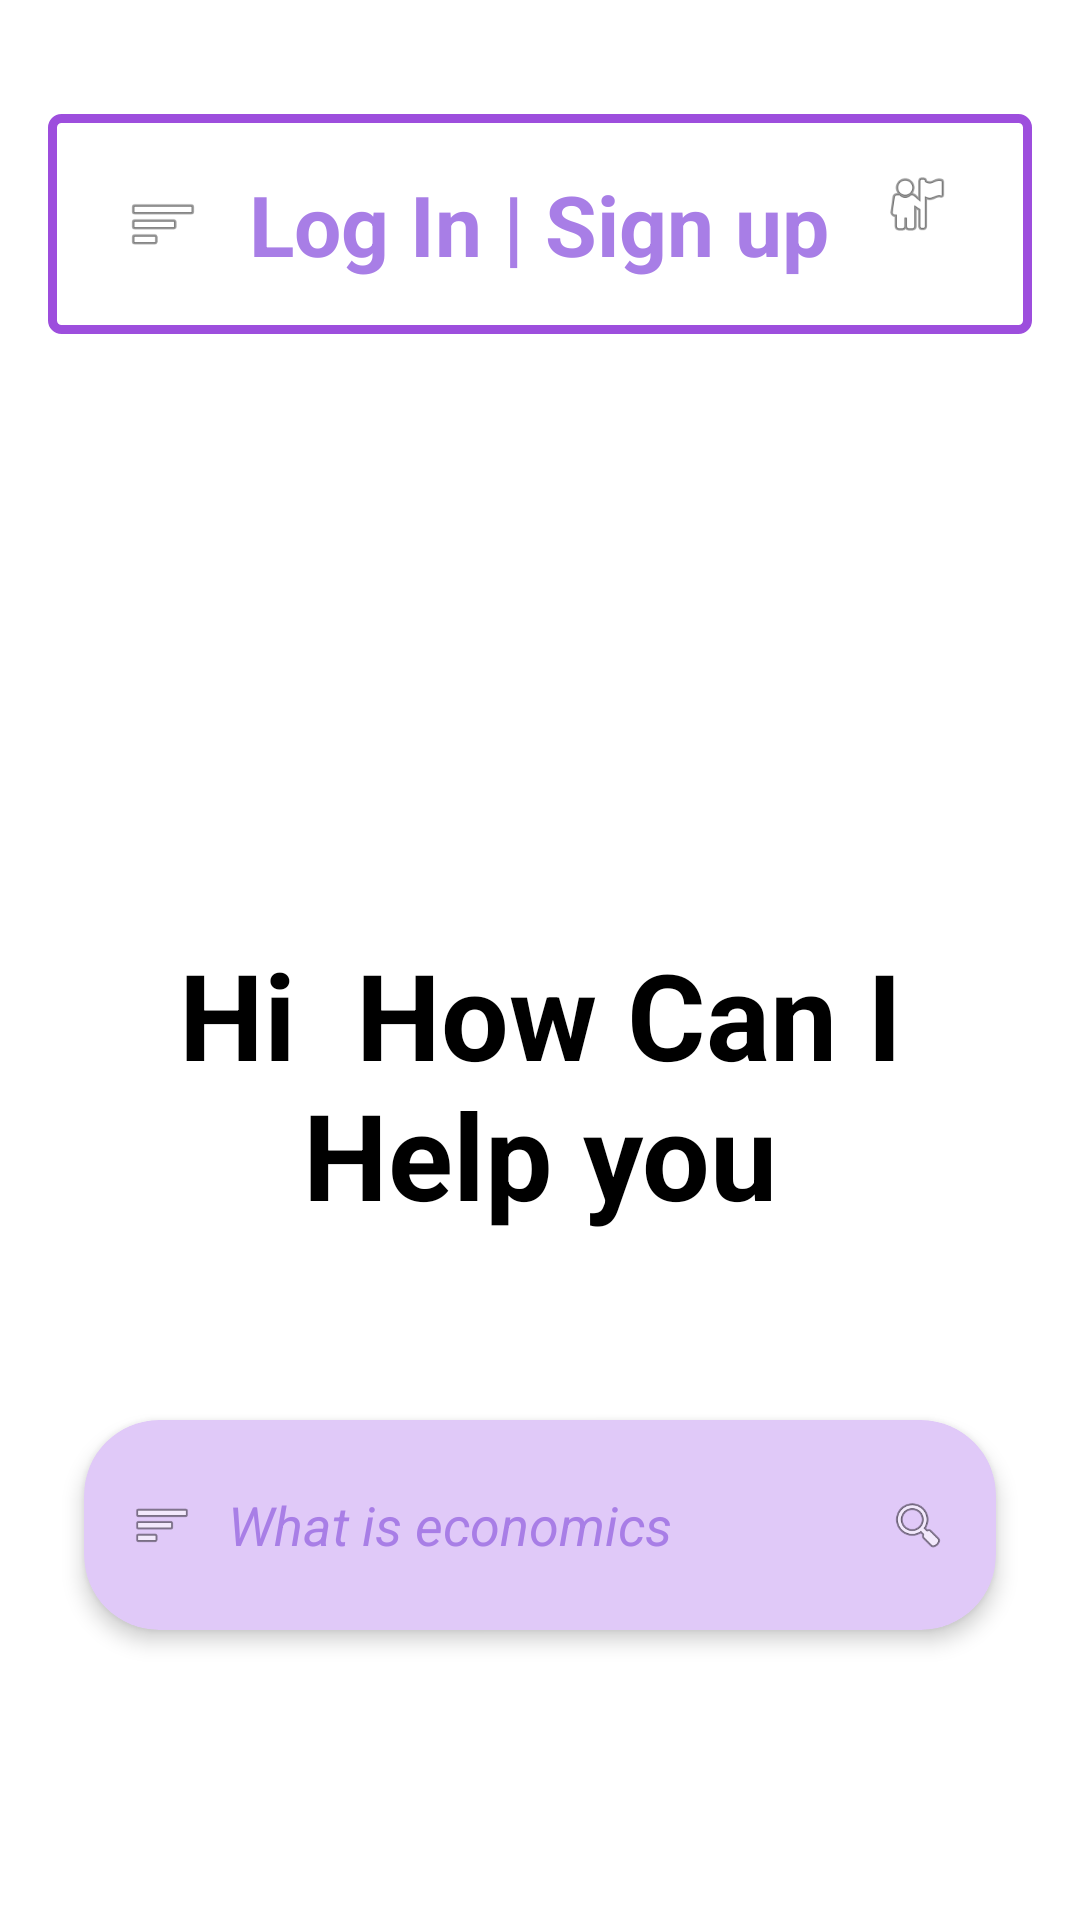

Locate icon controls on the screen. Image size 1080px×1920px, boxes as detection(x1, y1, x2, y2).
myplaces: detection(890, 177, 944, 231)
search: detection(896, 1503, 940, 1548)
sort by size: detection(132, 204, 194, 245), detection(136, 1508, 188, 1542)
